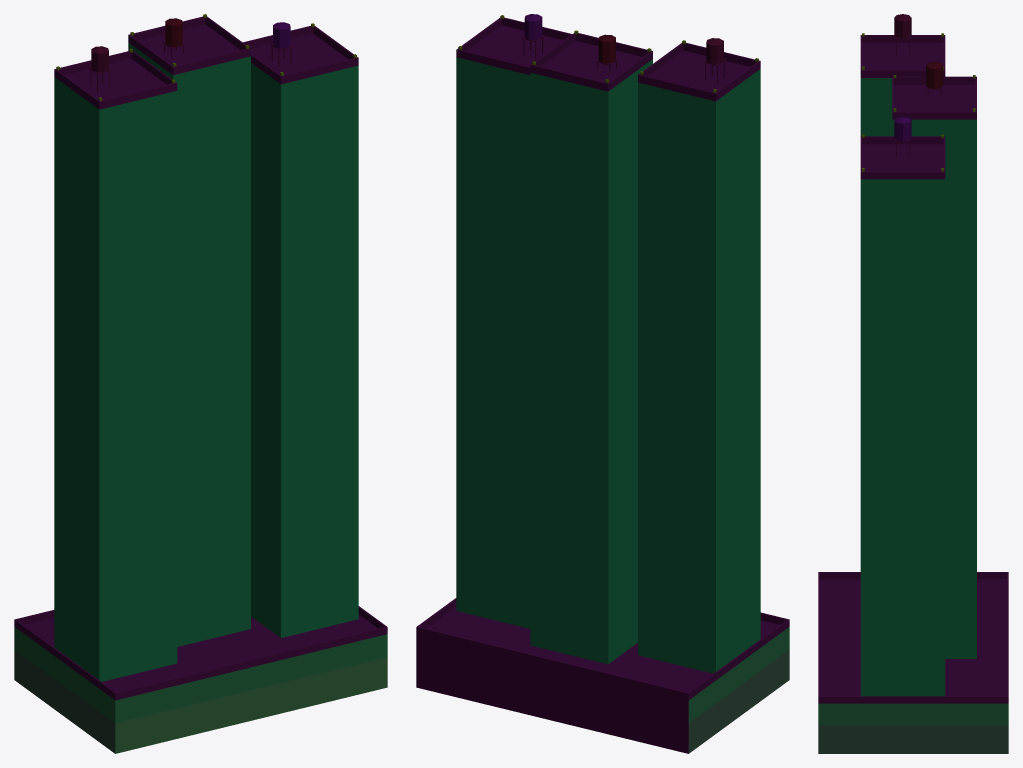
Rendered from estate_b.lod1.glb.
3 views of the same model, side by side, from view 1: azimuth 30°, elevation 25°; view 2: azimuth 150°, elevation 25°; view 3: azimuth 270°, elevation 25° (orthographic). The views are drawn at different scales.
Parts seen in each view (by area): view 1: estate_b.lod1; view 2: estate_b.lod1; view 3: estate_b.lod1.
Part boxes in pixels (<box>): estate_b.lod1: <box>14,14,387,753</box>; estate_b.lod1: <box>416,14,789,753</box>; estate_b.lod1: <box>818,14,1008,753</box>.
Bounding box in the file's own units: 44.8 × 105 × 28.8.
